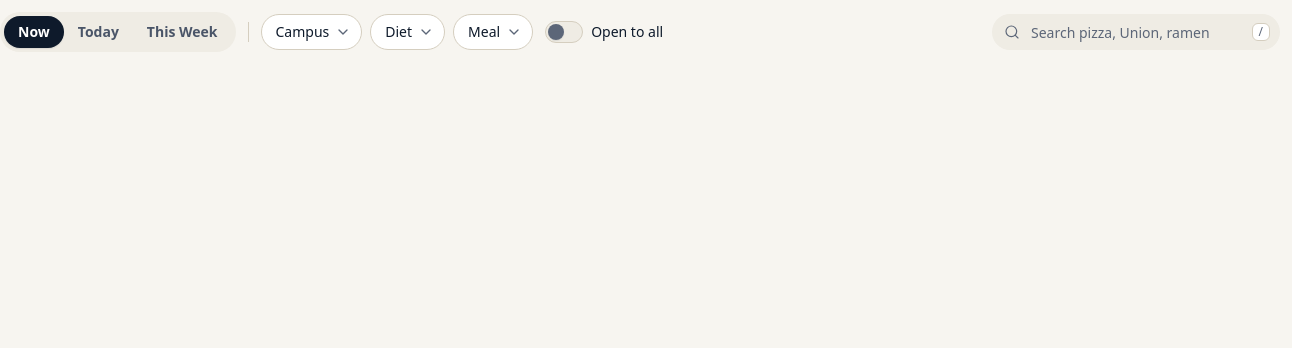
Test: FilterBar › lists every option in each menu
The image size is (1292, 348).
Click the button "Campus" at (311,32), box [260, 14, 362, 50]
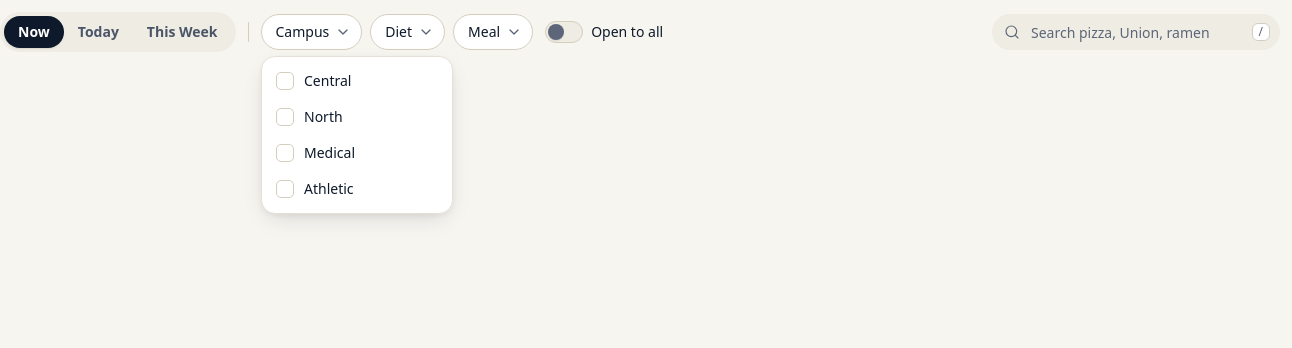
Press Escape
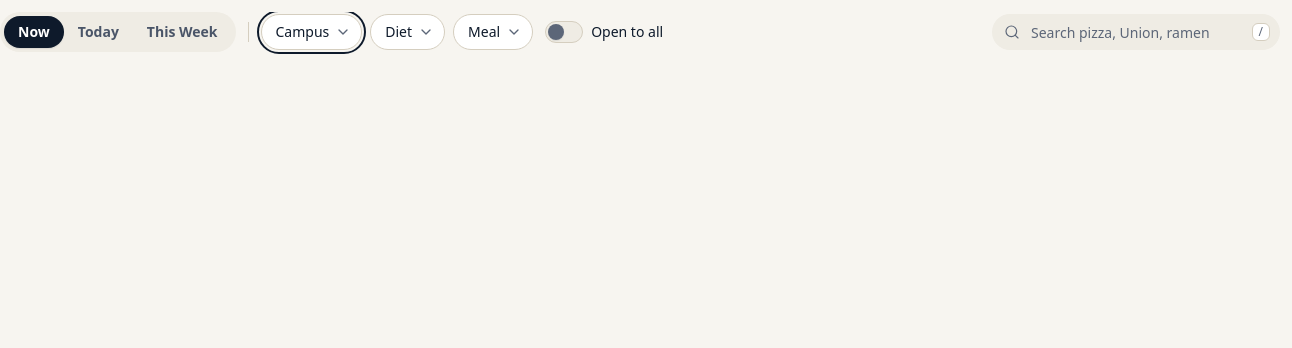
Click the button "Diet" at (408,32), box [370, 14, 445, 50]
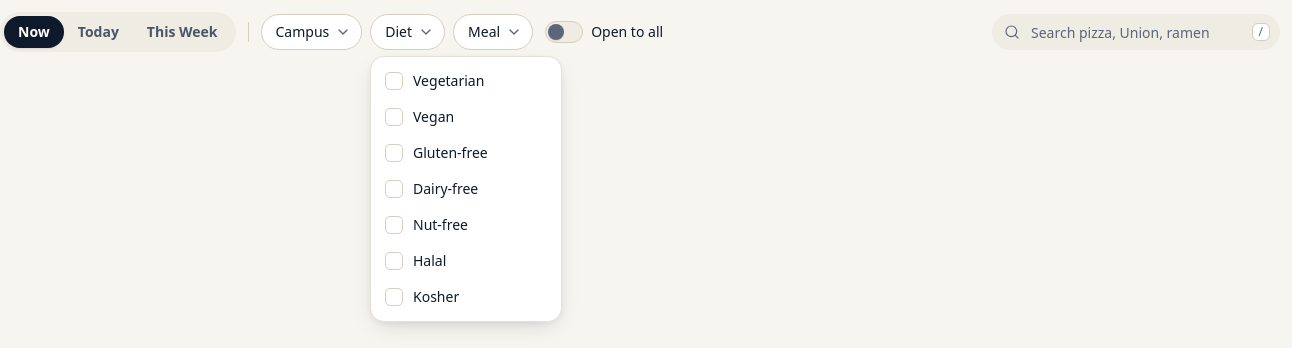
Expected: the number of menu items is 7
